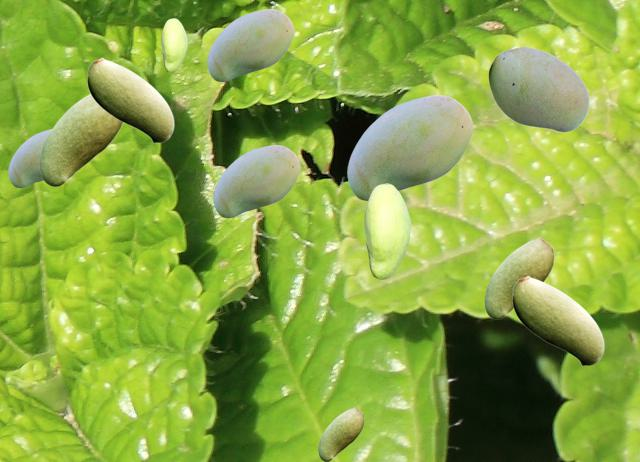green_mango: (347, 95, 472, 199), (488, 46, 588, 131), (512, 275, 603, 365), (39, 93, 123, 185), (87, 57, 173, 142), (207, 9, 293, 80), (213, 145, 299, 216), (484, 237, 553, 318), (364, 183, 409, 278), (8, 128, 51, 186), (318, 407, 363, 460), (161, 18, 186, 71)
